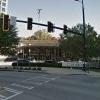Traffic light: (1, 9, 61, 39)
